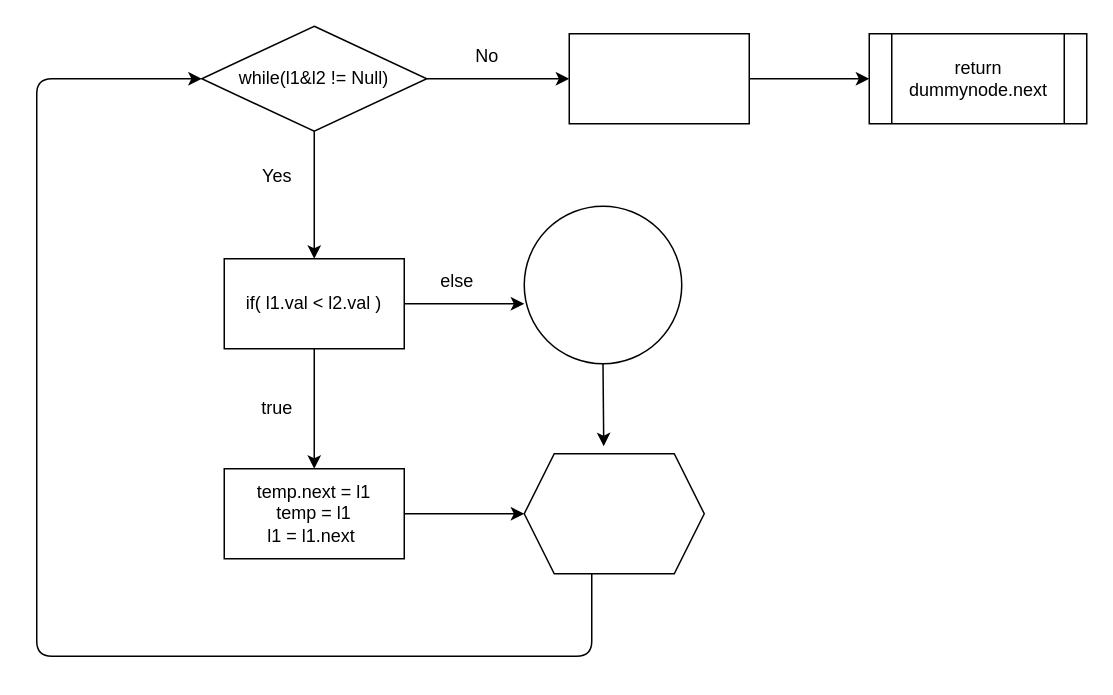
This 1113x695 diagram has some shape labels left out. Here are the shapes that lost their labels. From the top down, the centre of each, then its label:
At pixel 602 284: "temp.next = l2 temp = l2 l2 = l2.next".
At pixel 613 513: "updated".
